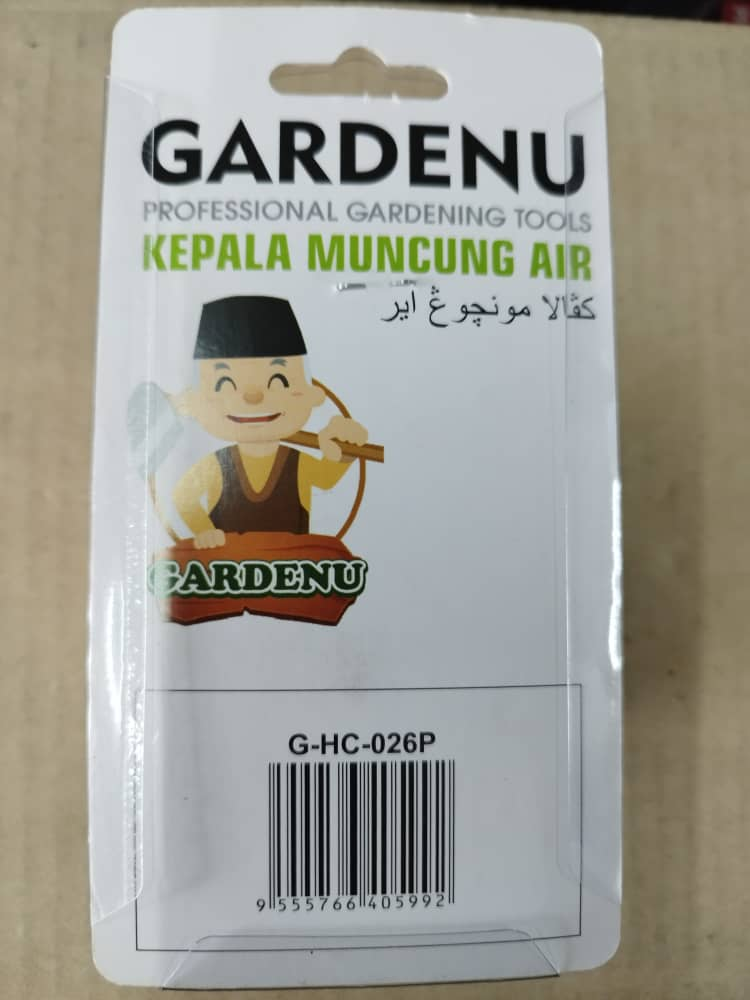sku_gardening_tool: (114, 100, 600, 956)
